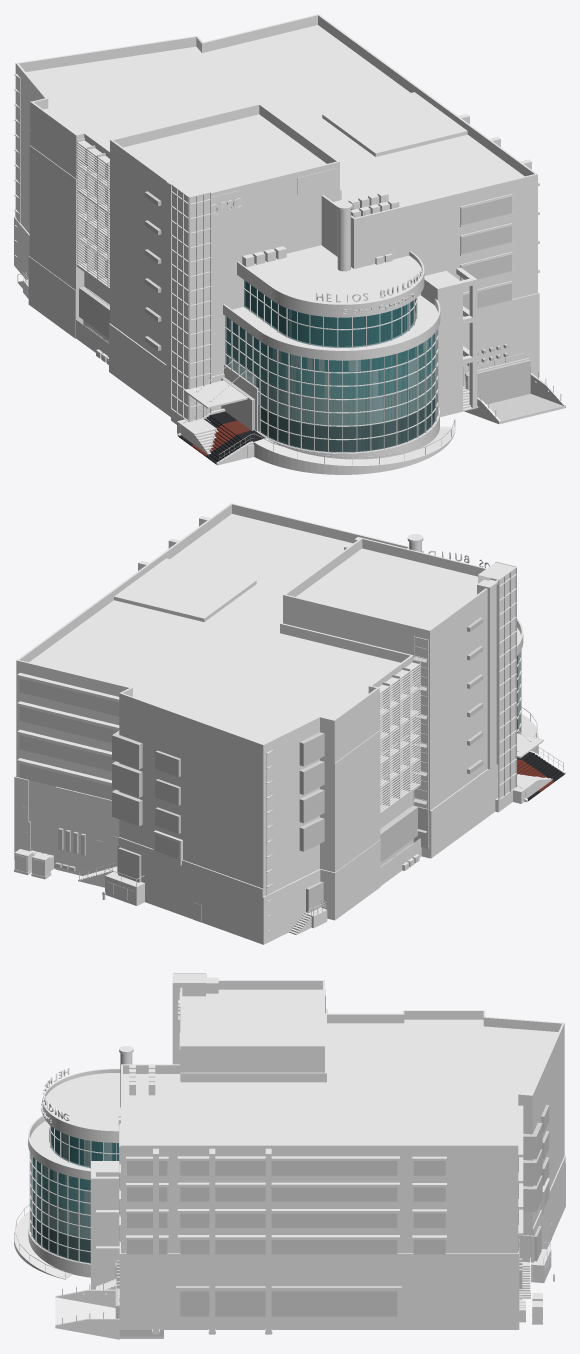
File: heliosfinal.glb
3 renders of one model, top to bottom at view 1: azimuth 30°, elevation 25°; view 2: azimuth 150°, elevation 25°; view 3: azimuth 270°, elevation 25°, orthographic. The views are drawn at different scales.
Parts seen in each view (by area): view 1: HELIOS_Main_Body, HELIOS_Main_TallBlock, HELIOS_Cyl_Interior, HELIOS_Cyl_CurtainWall, HELIOS_Cyl_CrownRoof, HELIOS_Main_BasePlinth, HELIOS_Left_GlassTower, HELIOS_Cyl_MullionGrid, HELIOS_Left_DarkTilePanel, HELIOS_Roof_RaisedSlab, HELIOS_Cyl_CrownSetback, HELIOS_Cyl_TopRim (+27 smaller); view 2: HELIOS_Main_Body, HELIOS_Main_TallBlock, HELIOS_Main_BasePlinth, CUT_Rear_Openings, HELIOS_Roof_RaisedSlab, HELIOS_Left_DarkTilePanel, HELIOS_Left_SunLouvres, HELIOS_Left_GlassTower, CUT_Left_RecessedBalconies, HELIOS_Left_TowerMullions, HELIOS_Rear_RedFascias, HELIOS_Rear_GrayCladding_Ribbon (+14 smaller); view 3: HELIOS_Main_Body, CUT_P2_Body, HELIOS_Main_TallBlock, HELIOS_Right_SideGrayCladding, HELIOS_Main_BasePlinth, HELIOS_Right_SideRedFascias, CUT_P2_BaseRight, HELIOS_Cyl_Interior, HELIOS_Cyl_CrownRoof, HELIOS_Cyl_CurtainWall, HELIOS_Right_SideRedStruts, HELIOS_Roof_RaisedSlab (+16 smaller).
Part boxes in pixels (x1,y1,x2,y2): HELIOS_Main_Body: (15,14,537,321); HELIOS_Main_TallBlock: (110,103,339,376); HELIOS_Cyl_Interior: (227,281,434,450); HELIOS_Cyl_CurtainWall: (225,316,437,452); HELIOS_Cyl_CrownRoof: (237,245,424,317); HELIOS_Main_BasePlinth: (14,217,539,416); HELIOS_Left_GlassTower: (172,179,210,420); HELIOS_Cyl_MullionGrid: (225,284,438,453); HELIOS_Left_DarkTilePanel: (29,145,84,290); HELIOS_Roof_RaisedSlab: (322,92,467,156); HELIOS_Cyl_CrownSetback: (244,280,416,347); HELIOS_Cyl_TopRim: (223,295,440,360); HELIOS_Main_Body: (16,503,413,896); HELIOS_Main_TallBlock: (283,537,498,845); HELIOS_Main_BasePlinth: (14,764,498,944); CUT_Rear_Openings: (19,678,180,882); HELIOS_Roof_RaisedSlab: (114,558,256,622); HELIOS_Left_DarkTilePanel: (334,730,380,872); HELIOS_Left_SunLouvres: (379,660,420,813); HELIOS_Left_GlassTower: (478,562,515,798); CUT_Left_RecessedBalconies: (299,732,324,851); HELIOS_Left_TowerMullions: (495,561,516,800); HELIOS_Rear_RedFascias: (17,673,119,785); HELIOS_Rear_GrayCladding_Ribbon: (55,786,119,837); HELIOS_Main_Body: (121,1010,564,1253); CUT_P2_Body: (115,1125,445,1288); HELIOS_Main_TallBlock: (180,980,324,1080); HELIOS_Right_SideGrayCladding: (120,1248,519,1286); HELIOS_Main_BasePlinth: (119,1163,565,1329); HELIOS_Right_SideRedFascias: (126,1156,446,1291); CUT_P2_BaseRight: (180,1291,397,1316); HELIOS_Cyl_Interior: (33,1127,118,1261); HELIOS_Cyl_CrownRoof: (42,1068,120,1142); HELIOS_Cyl_CurtainWall: (30,1154,90,1263); HELIOS_Right_SideRedStruts: (153,1148,271,1334); HELIOS_Roof_RaisedSlab: (244,1109,340,1144).
Bounding box in the file's own units: 44.58 × 31.34 × 68.59.
